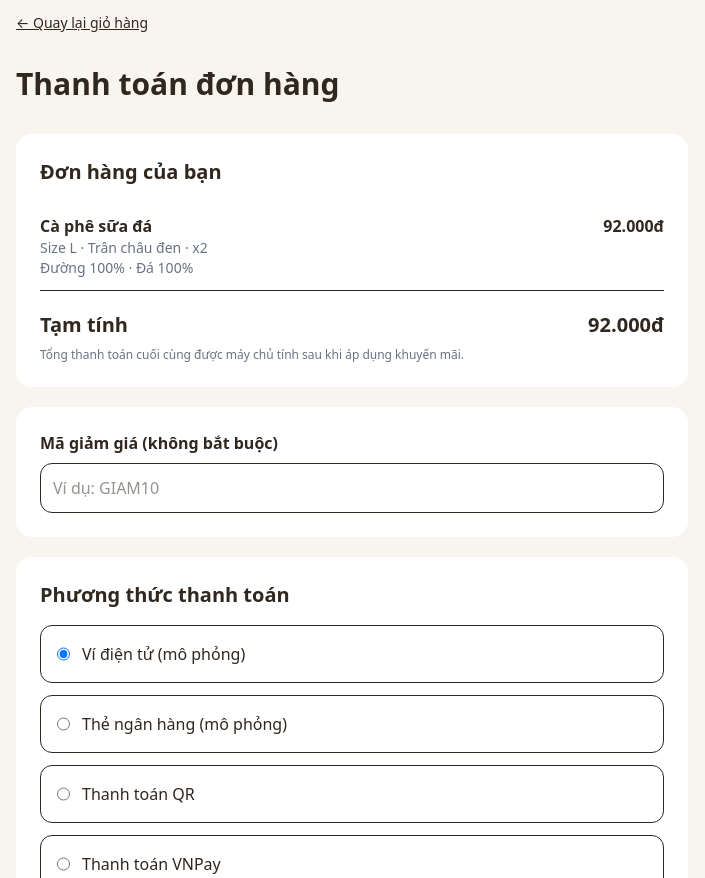
Scenario: BrewLite - Checkout Task 5 › cho phep chon Vi hoac The
Expected: the text "Cà phê sữa đá" is shown, [40,215,152,237]
Expected: the radio button labelled "Ví điện tử (mô phỏng)" is checked, [57,642,70,666]
Click the radio button labelled "Thẻ ngân hàng (mô phỏng)" at [64, 724], box [57,712,70,736]
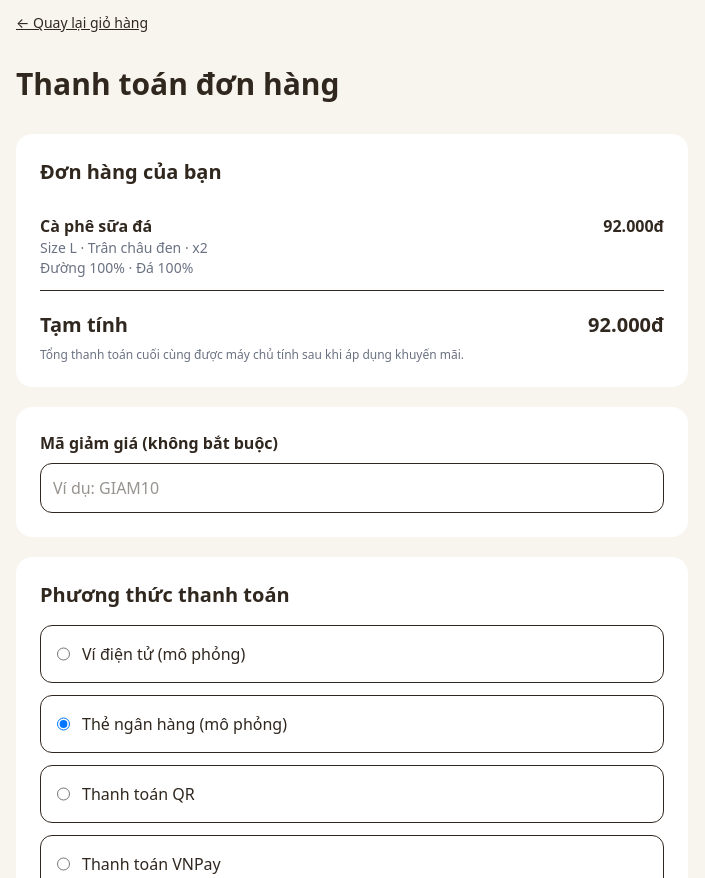
Expected: the radio button labelled "Thẻ ngân hàng (mô phỏng)" is checked, [57,712,70,736]
Expected: the radio button labelled "Ví điện tử (mô phỏng)" is not checked, [57,642,70,666]
